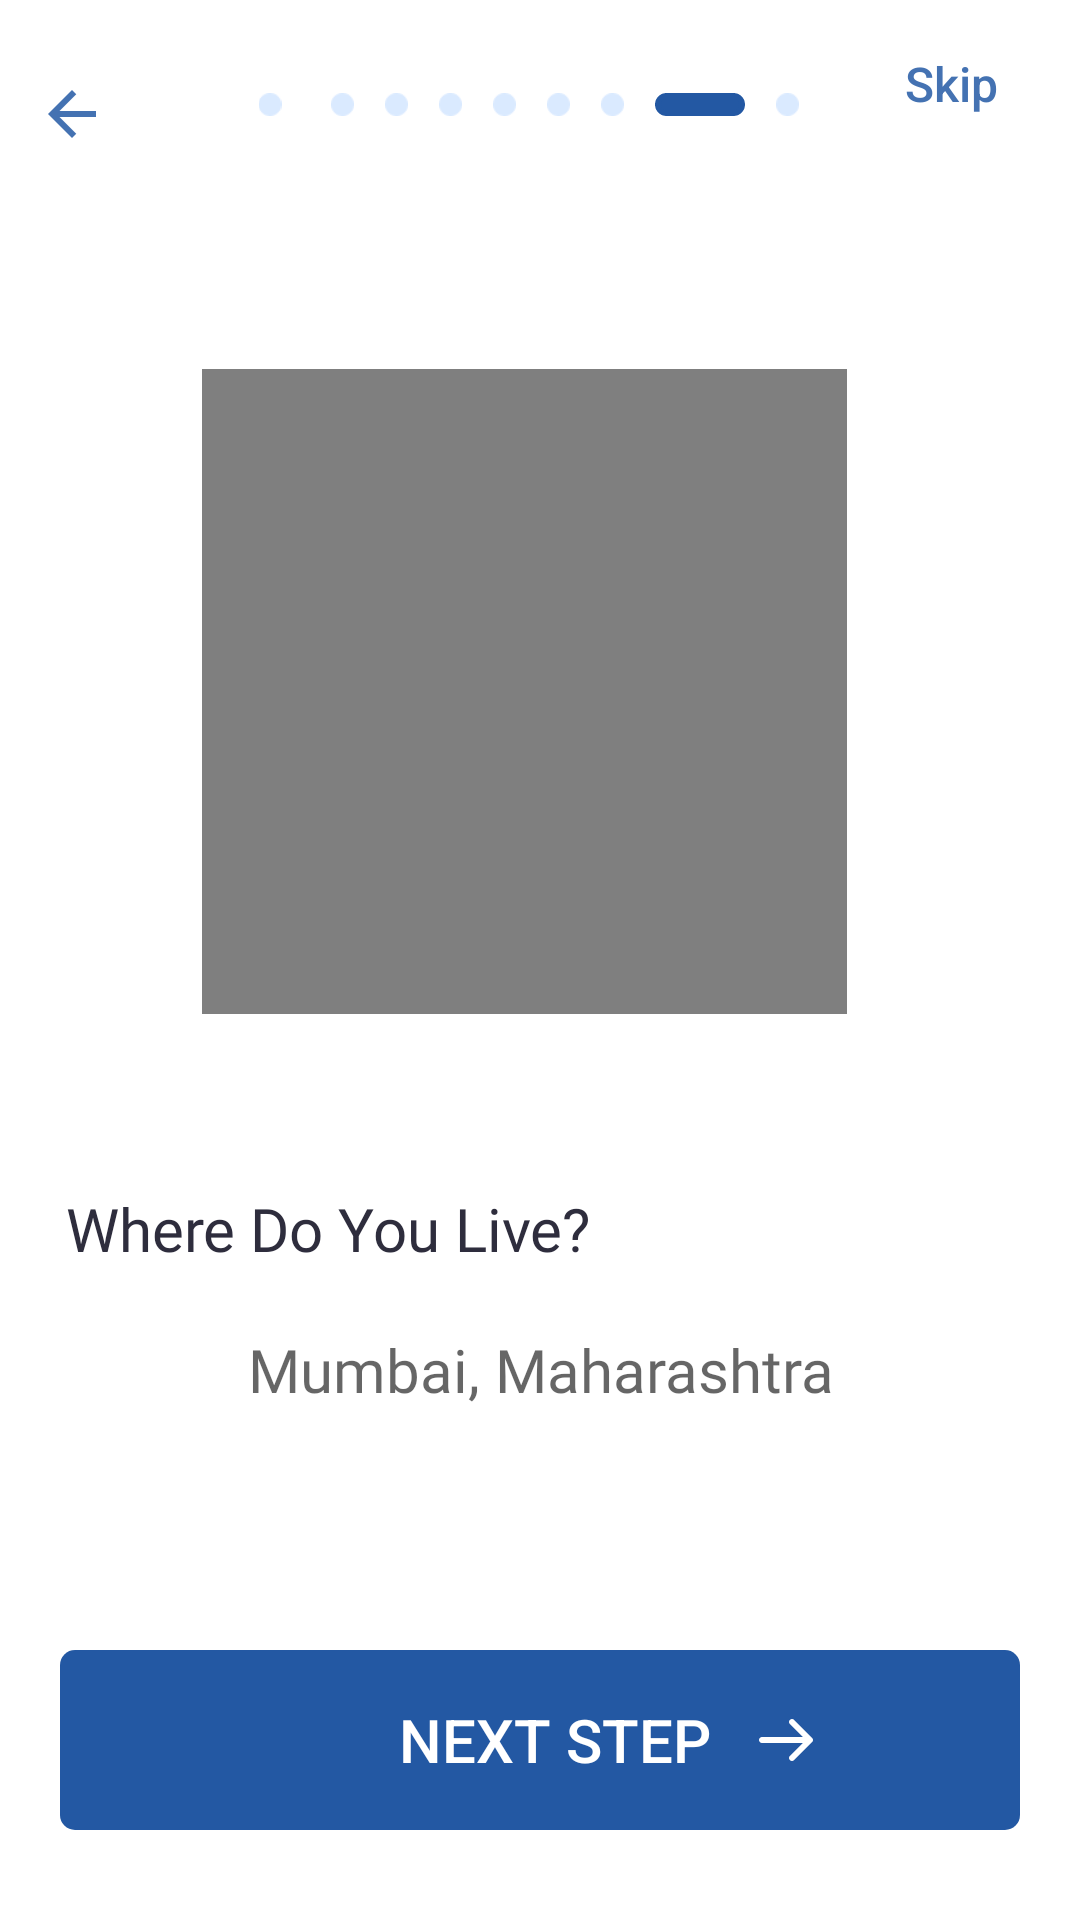

Where icons sit on this 1080 × 1920 app screen, as (x1, y1, x2, y2):
feather arrow right: (759, 1719, 813, 1761)
